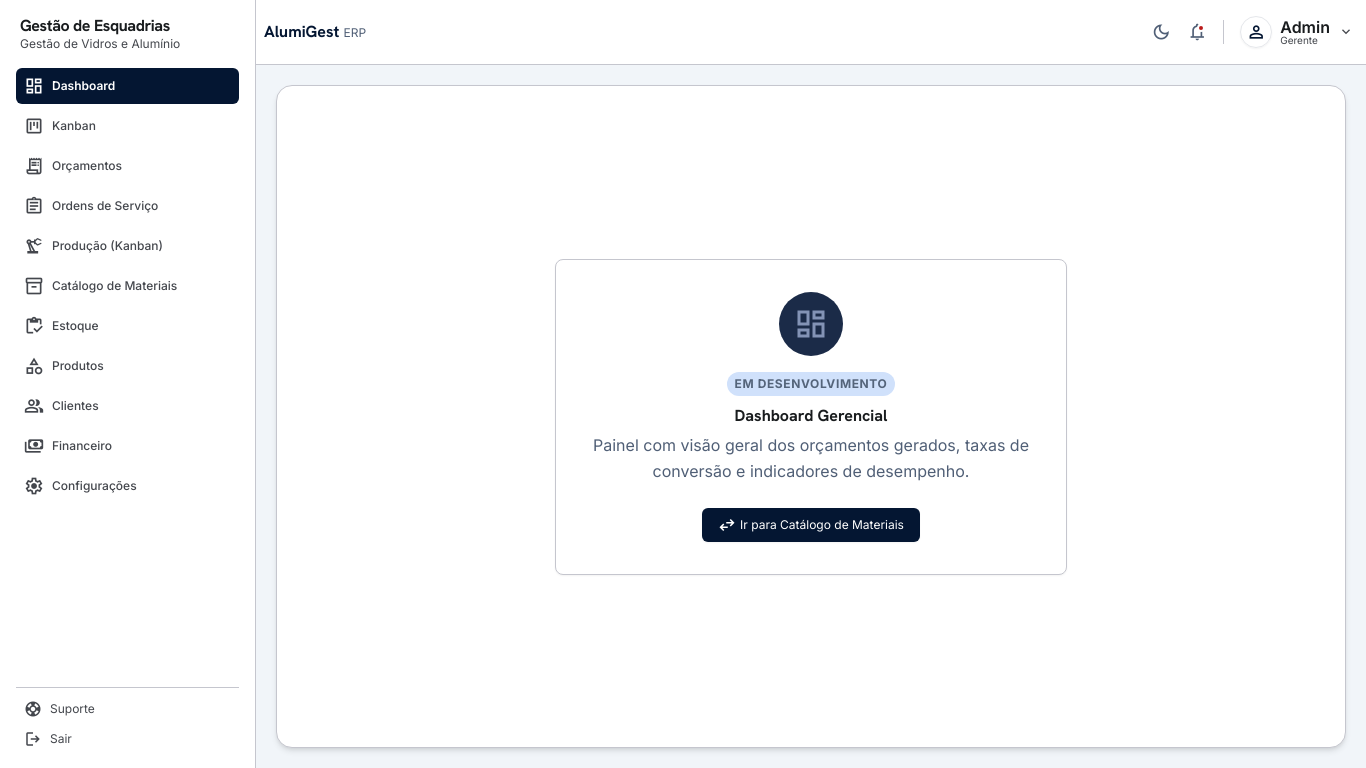
Test: US-18: Acompanhar Produção via Painel Kanban de Pedidos de Venda (Suíte E2E) › Cenário 1 [US-18.6]: Navegação via menu lateral e acesso à rota /producao
The image size is (1366, 768).
Click the link "Produção (Kanban)".
click(94, 246)  # box [24,234,163,258]
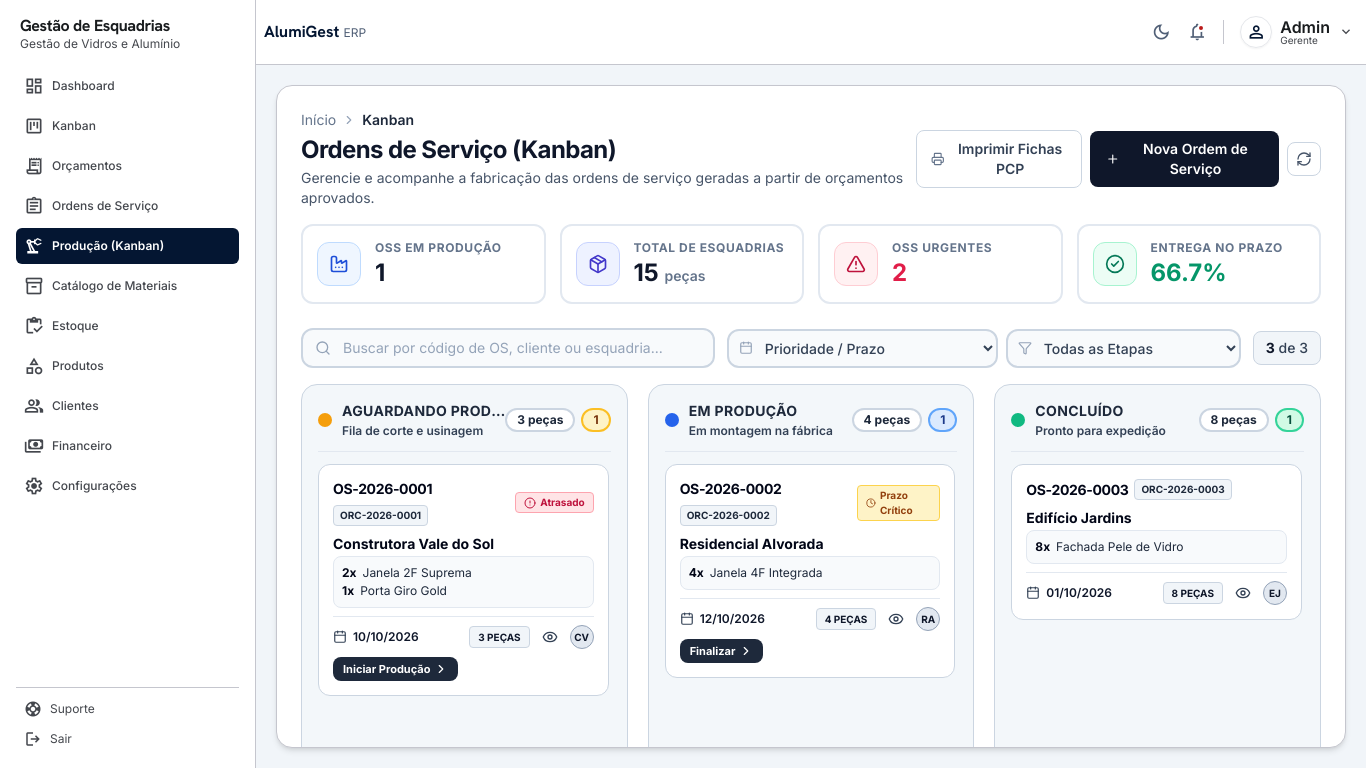
Expected: the heading with id "kanban-page-title" reads "Ordens de Serviço (Kanban)", [301,135,616,164]
Expected: the navigation bar named "Breadcrumb" shows "Kanban", [301,111,414,128]
